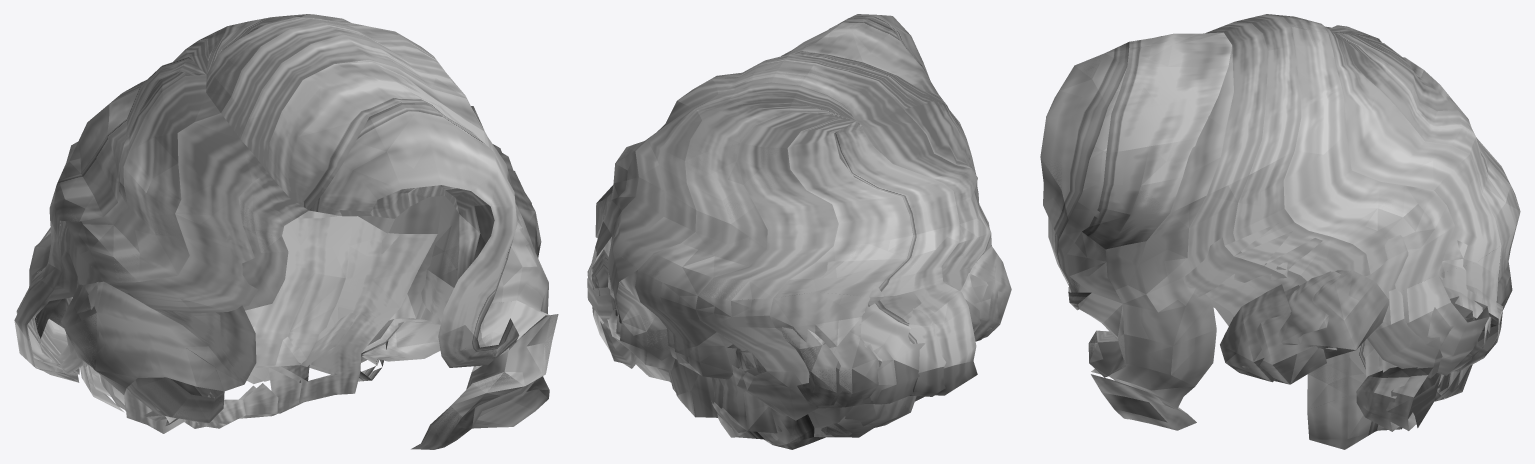
File: hair_short02.glb
The picture shows the model from 3 angles, left to right: view 1: azimuth 30°, elevation 25°; view 2: azimuth 150°, elevation 25°; view 3: azimuth 270°, elevation 25°; orthographic projection. The views are drawn at different scales.
Parts seen in each view (by area): view 1: hair_short02; view 2: hair_short02; view 3: hair_short02.
Part boxes in pixels (left/top/right/bottom): hair_short02: left=14, top=14, right=558, bottom=449; hair_short02: left=587, top=14, right=1011, bottom=449; hair_short02: left=1040, top=14, right=1520, bottom=449.
Bounding box in the file's own units: 0.2547 × 0.2233 × 0.2473.
Materials: 1 (1 with a texture image).
